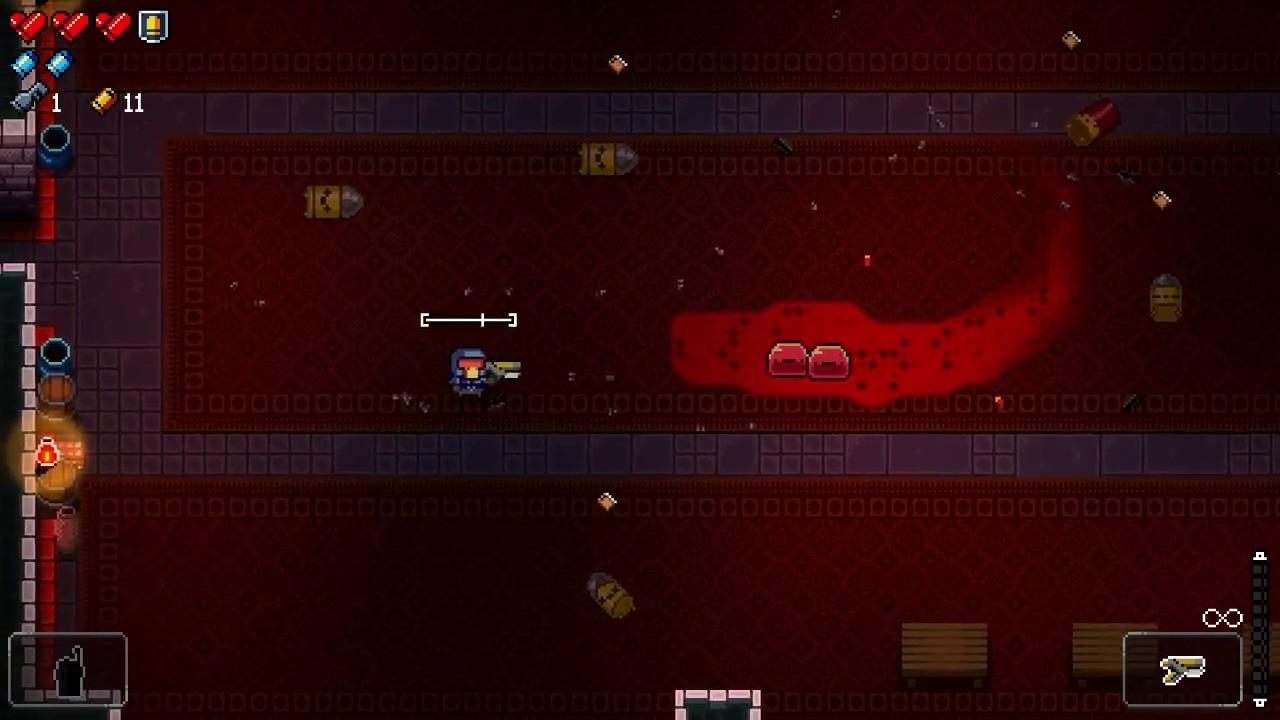blobuloid_m: (766, 341, 810, 377), (810, 344, 852, 380)
dead_bullet_kin: (587, 573, 636, 620), (579, 142, 641, 177), (306, 185, 366, 218), (1148, 272, 1183, 323)
dead_red_shotgun_kin: (1065, 95, 1122, 148)
player: (451, 350, 487, 399)
table: (901, 622, 988, 689), (1073, 622, 1159, 685)
